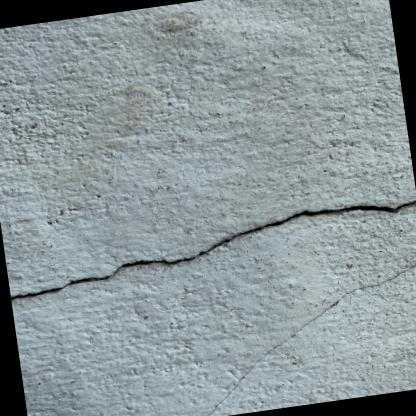crack: (10, 199, 416, 299)
